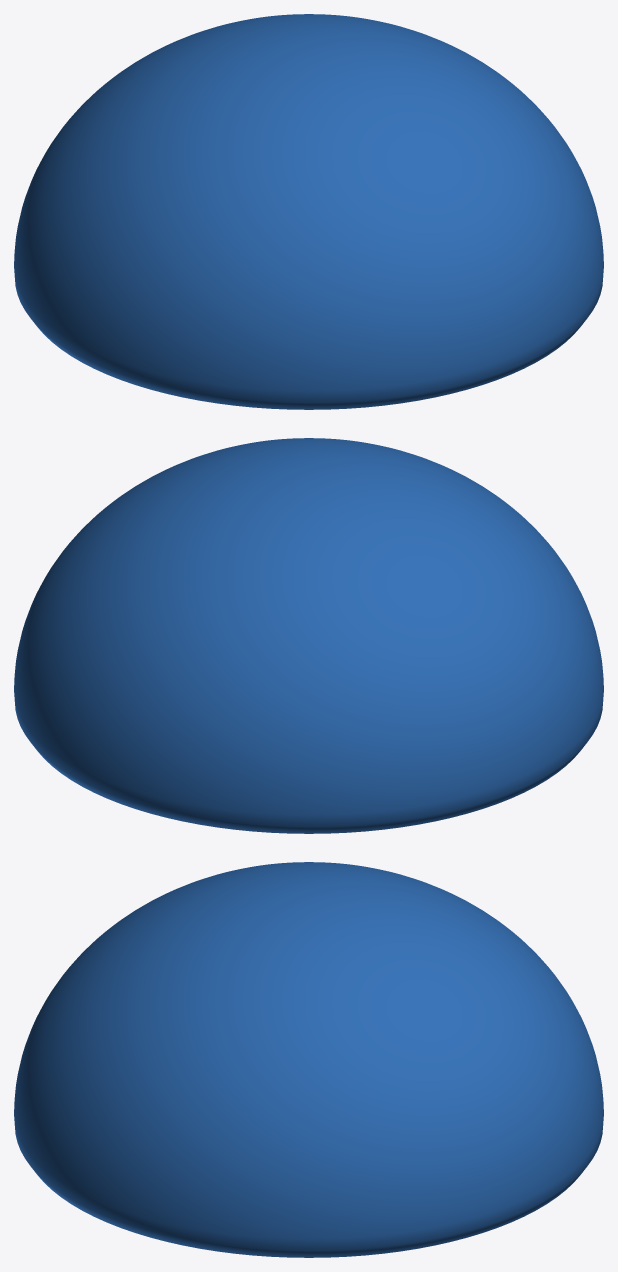
Rendered from round-button-click.glb.
The picture shows the model from 3 angles, top to bottom: view 1: azimuth 30°, elevation 25°; view 2: azimuth 150°, elevation 25°; view 3: azimuth 270°, elevation 25°; orthographic projection.
Parts seen in each view (by area): view 1: Squishy_Button_Round; view 2: Squishy_Button_Round; view 3: Squishy_Button_Round.
Part boxes in pixels (x1,y1,x2,y2): Squishy_Button_Round: [14, 14, 603, 409]; Squishy_Button_Round: [14, 438, 603, 833]; Squishy_Button_Round: [14, 862, 603, 1257].
Bounding box in the file's own units: 1 × 0.46 × 1.
